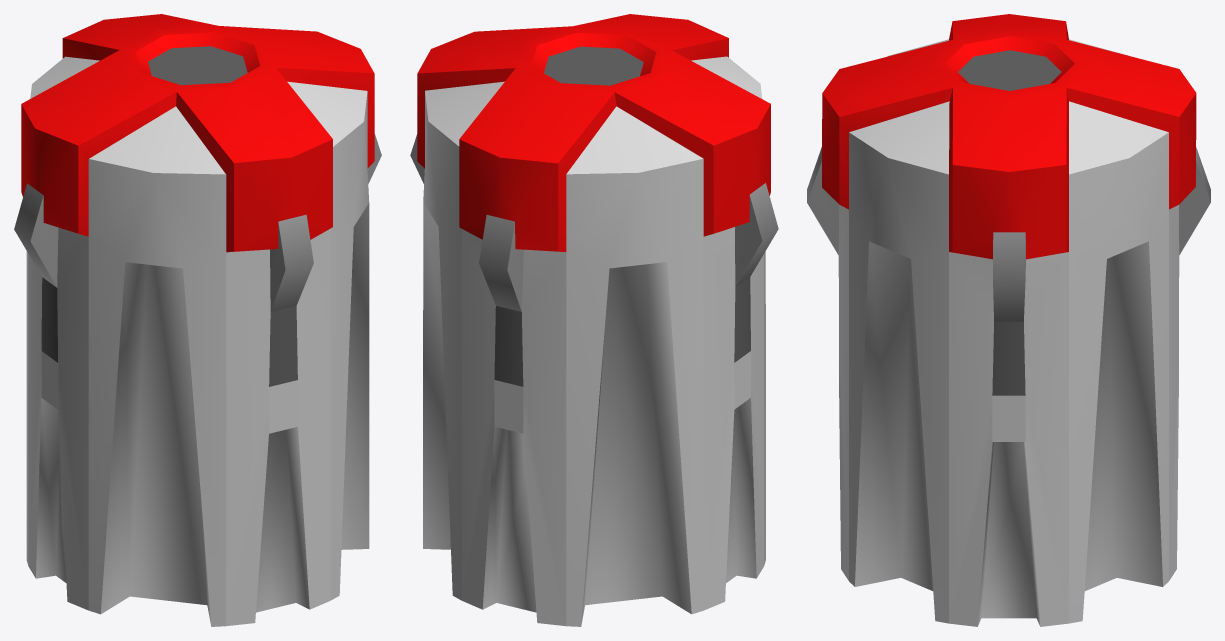
The model's file is food_containers_0.fbx.
3 renders of one model, left to right at view 1: azimuth 30°, elevation 25°; view 2: azimuth 150°, elevation 25°; view 3: azimuth 270°, elevation 25°, orthographic.
Visible parts, largest first — view 1: ContainerQuad; view 2: ContainerQuad; view 3: ContainerQuad.
Boxes of the visible parts, x1=… form: ContainerQuad: x1=14, y1=14, x2=381, y2=626; ContainerQuad: x1=410, y1=14, x2=778, y2=626; ContainerQuad: x1=807, y1=14, x2=1210, y2=626.
Size of the model in its own units: 14.18 by 19.08 by 14.18.
